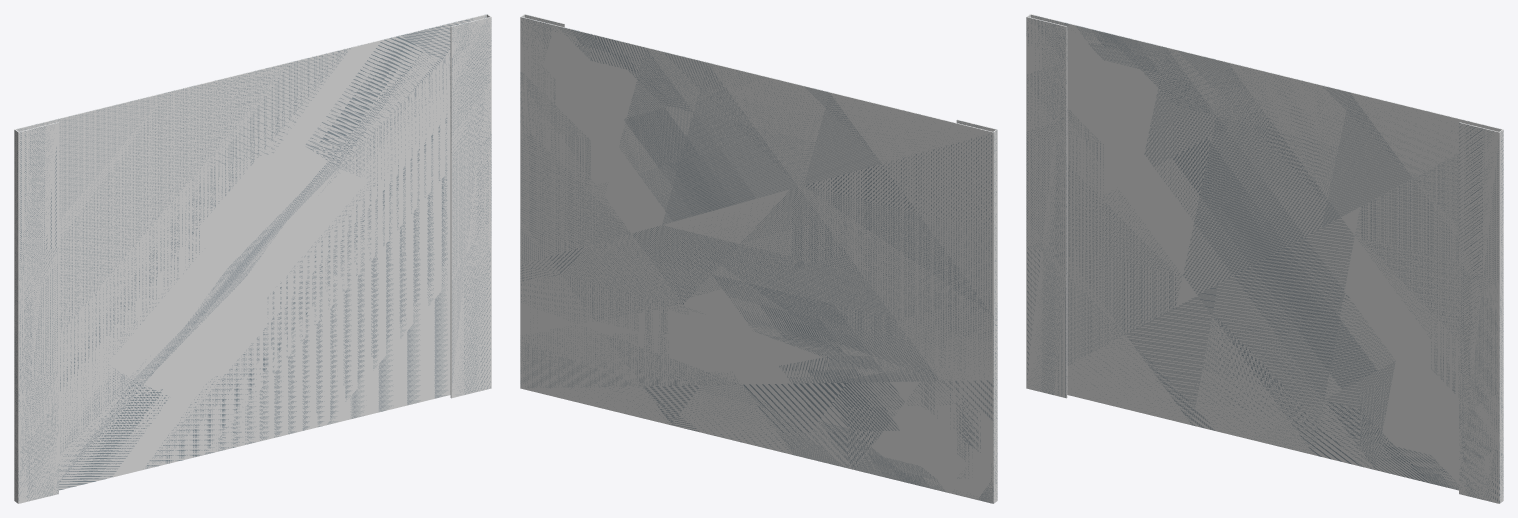
The picture shows the model from 3 angles, left to right: view 1: azimuth 30°, elevation 25°; view 2: azimuth 150°, elevation 25°; view 3: azimuth 330°, elevation 25°; orthographic projection.
Visible parts, largest first — view 1: group_0; view 2: group_0; view 3: group_0.
Boxes of the visible parts, left/top/right/bottom form: group_0: left=14, top=14, right=491, bottom=503; group_0: left=520, top=14, right=997, bottom=503; group_0: left=1026, top=14, right=1503, bottom=503.
Size of the model in its own units: 23.62 by 0.3622 by 17.72.
